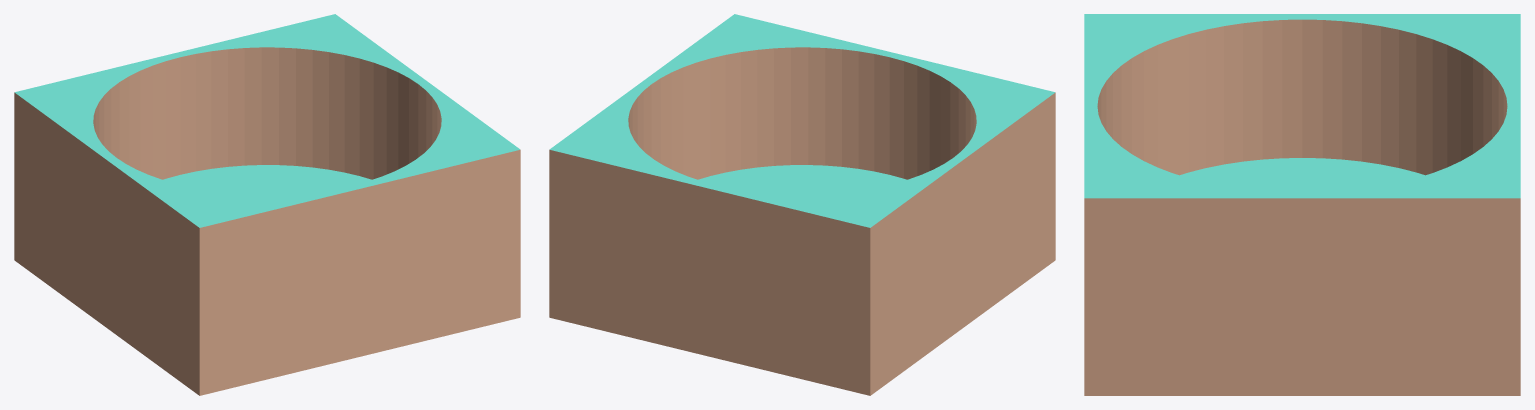
Rendered from hole_rock.glb.
3 views of the same model, side by side, from view 1: azimuth 30°, elevation 25°; view 2: azimuth 150°, elevation 25°; view 3: azimuth 270°, elevation 25° (orthographic). The views are drawn at different scales.
Parts seen in each view (by area): view 1: cliff_block_rock; view 2: cliff_block_rock; view 3: cliff_block_rock.
Part boxes in pixels (x1,y1,x2,y2): cliff_block_rock: [14, 14, 520, 395]; cliff_block_rock: [549, 14, 1055, 395]; cliff_block_rock: [1084, 14, 1520, 395].
Size of the model in its own units: 2 by 1 by 2.
